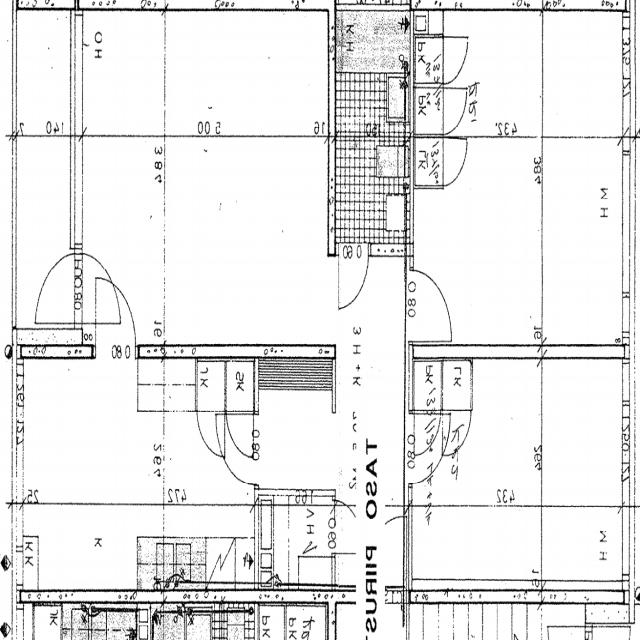door: (70, 253, 123, 324), (30, 253, 83, 324), (364, 516, 406, 602), (96, 276, 135, 358), (409, 270, 454, 340), (215, 415, 259, 485), (409, 414, 451, 482), (339, 243, 369, 309), (332, 499, 365, 552)
